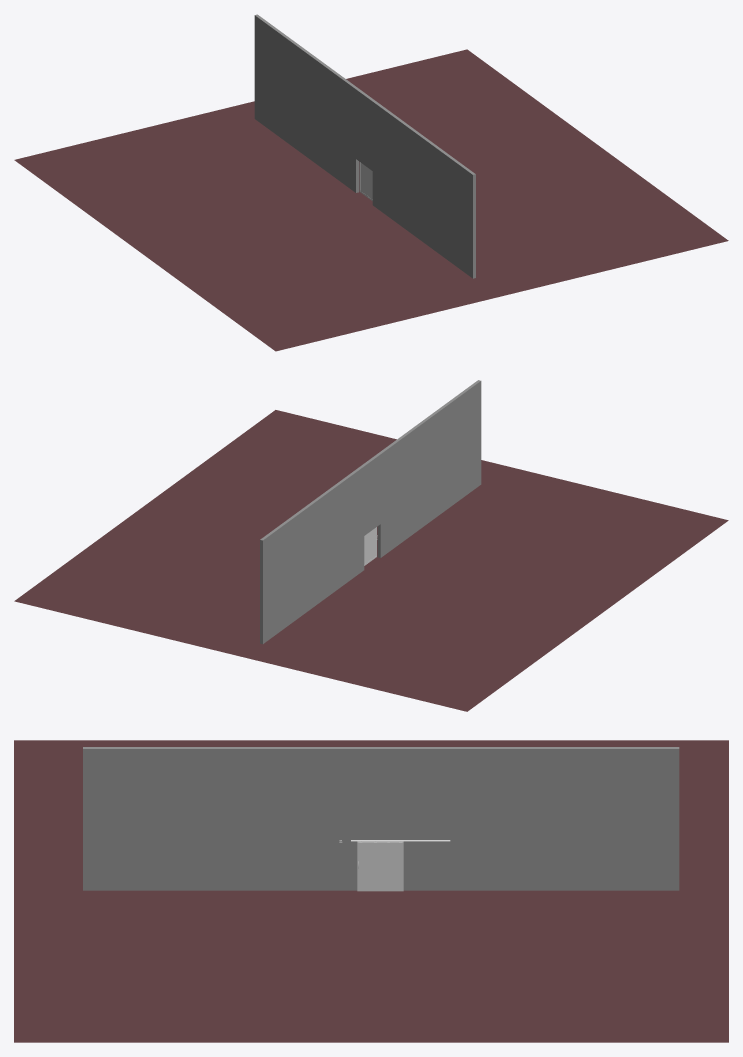
Rendered from profile3Draco.gltf.
3 views of the same model, one above another, from view 1: azimuth 30°, elevation 25°; view 2: azimuth 150°, elevation 25°; view 3: azimuth 270°, elevation 25° (orthographic). The views are drawn at different scales.
Visible parts, largest first — view 1: Plane, Cube; view 2: Plane, Cube; view 3: Plane, Cube, polotno.
Part boxes in pixels (x1,y1,x2,y2): Plane: (14,49,728,351); Cube: (254,14,475,278); Plane: (14,410,728,711); Cube: (260,380,481,644); Plane: (14,740,728,1042); Cube: (83,747,679,890); polotno: (357,841,403,891).
Bounding box in the file's own units: 27.85 × 6.25 × 27.85.
